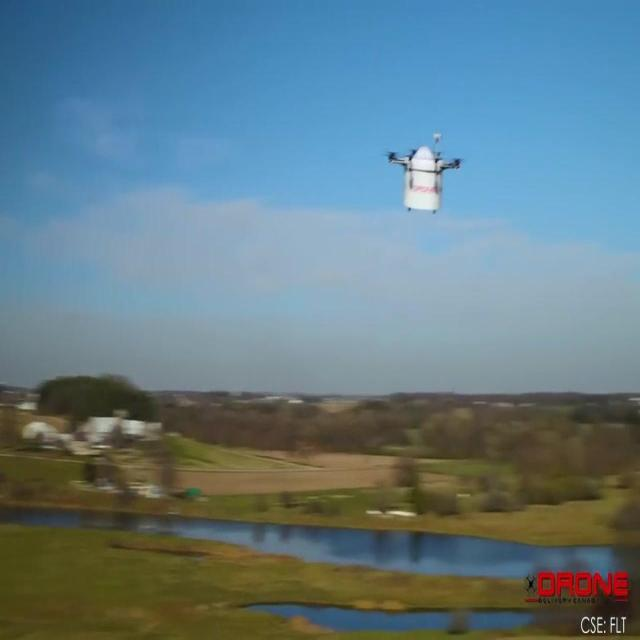drone: (385, 131, 463, 216)
